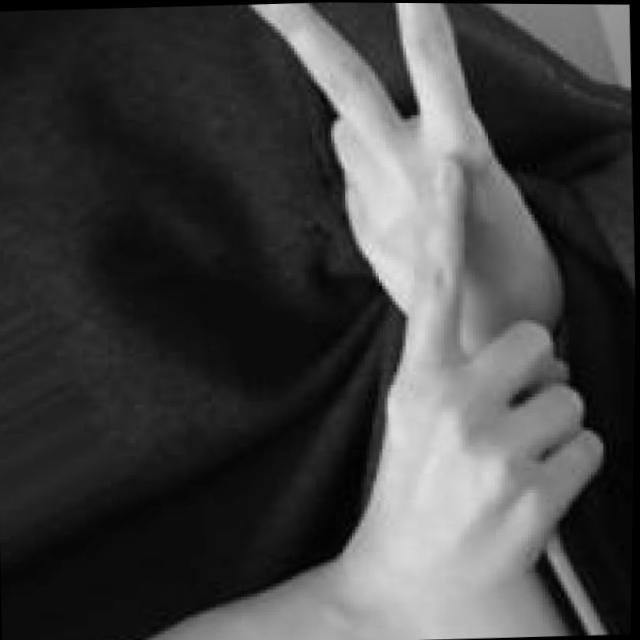Y: (230, 2, 612, 564)
